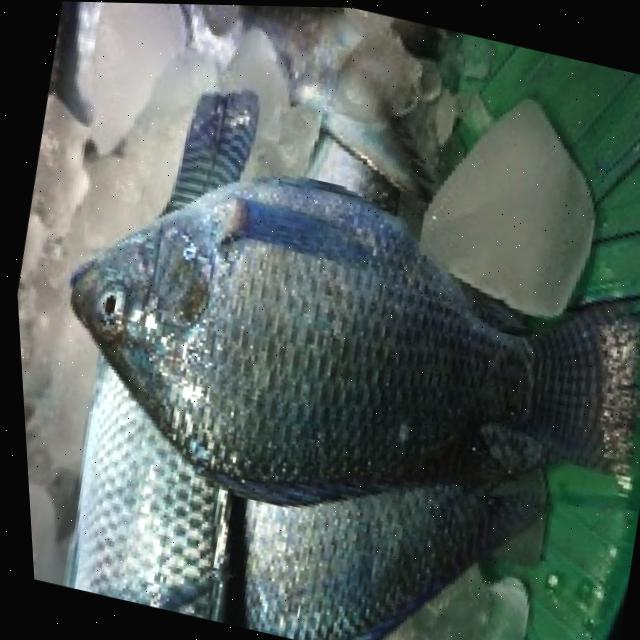Fresh: (5, 115, 553, 549)
